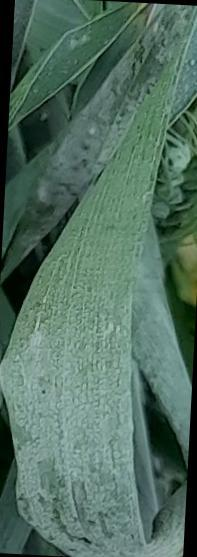Wheat: (15, 24, 153, 208), (20, 373, 120, 512), (40, 278, 118, 365), (83, 212, 129, 274)
